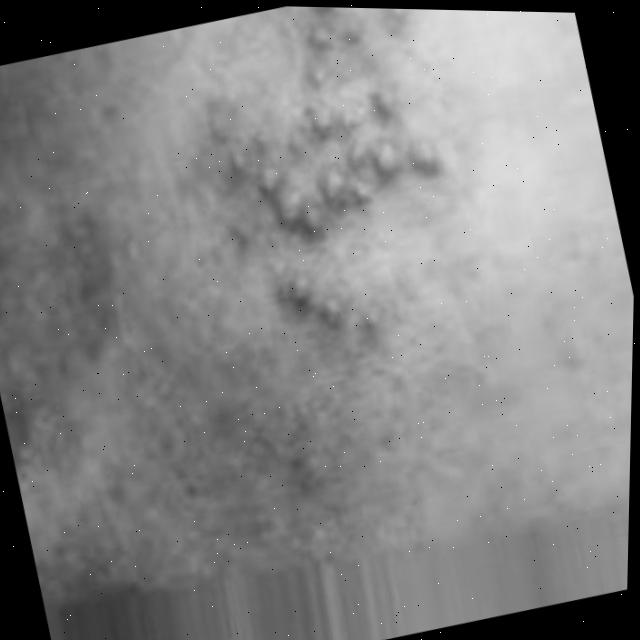Shingles: (198, 5, 481, 349)
